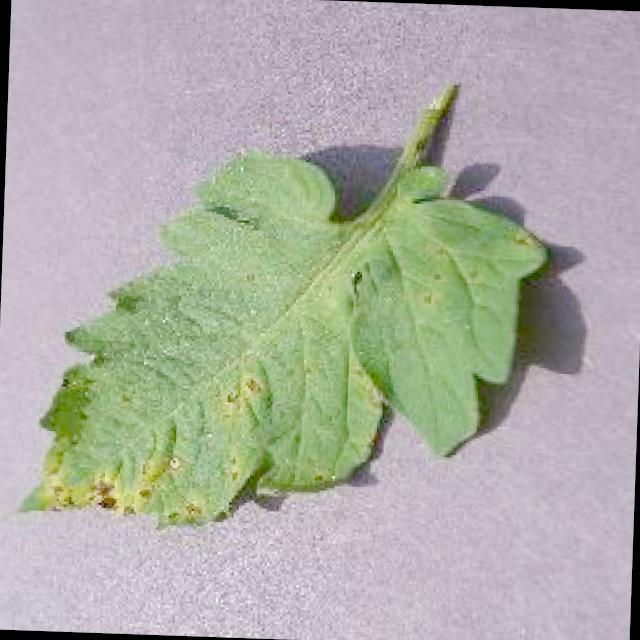Tomato Septoria spot leaf: (17, 152, 540, 540)
